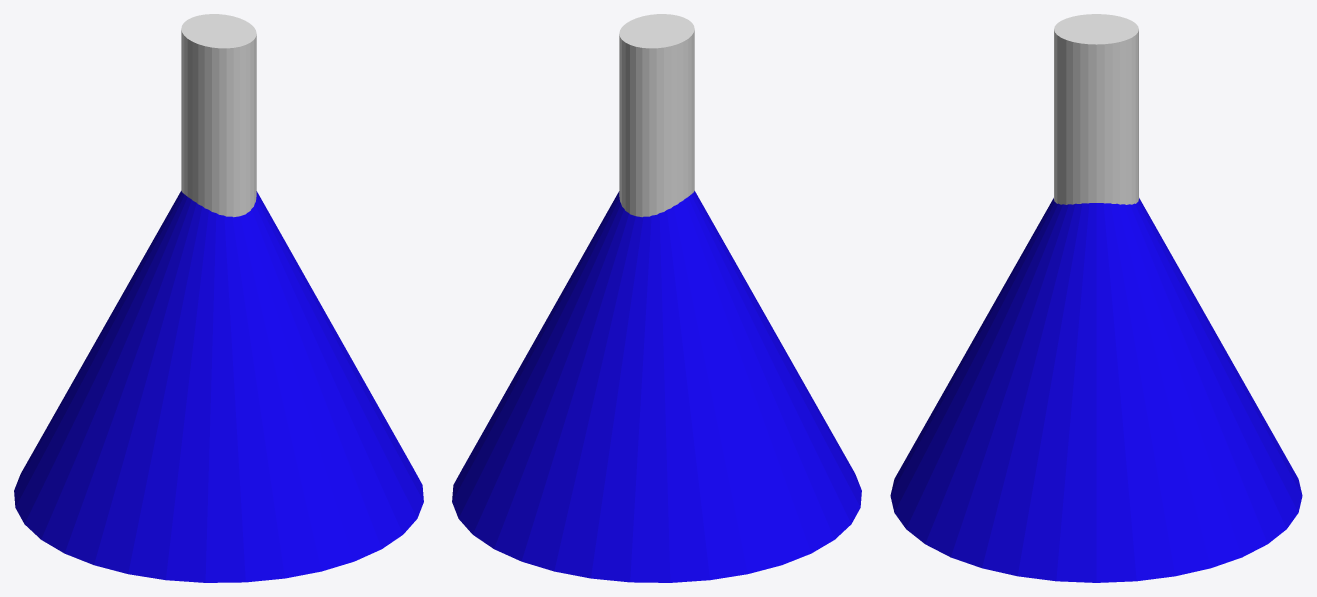
File: pocaoAzul2.fbx
3 renders of one model, left to right at view 1: azimuth 30°, elevation 25°; view 2: azimuth 150°, elevation 25°; view 3: azimuth 270°, elevation 25°, orthographic.
Parts seen in each view (by area): view 1: Cone, Cylinder; view 2: Cone, Cylinder; view 3: Cone, Cylinder.
Part boxes in pixels (<box>): Cone: <box>14,191,423,582</box>; Cylinder: <box>181,14,256,217</box>; Cone: <box>452,191,861,582</box>; Cylinder: <box>619,14,694,217</box>; Cone: <box>890,198,1302,582</box>; Cylinder: <box>1054,14,1138,204</box>.
Bounding box in the file's own units: 200 × 250 × 200.
